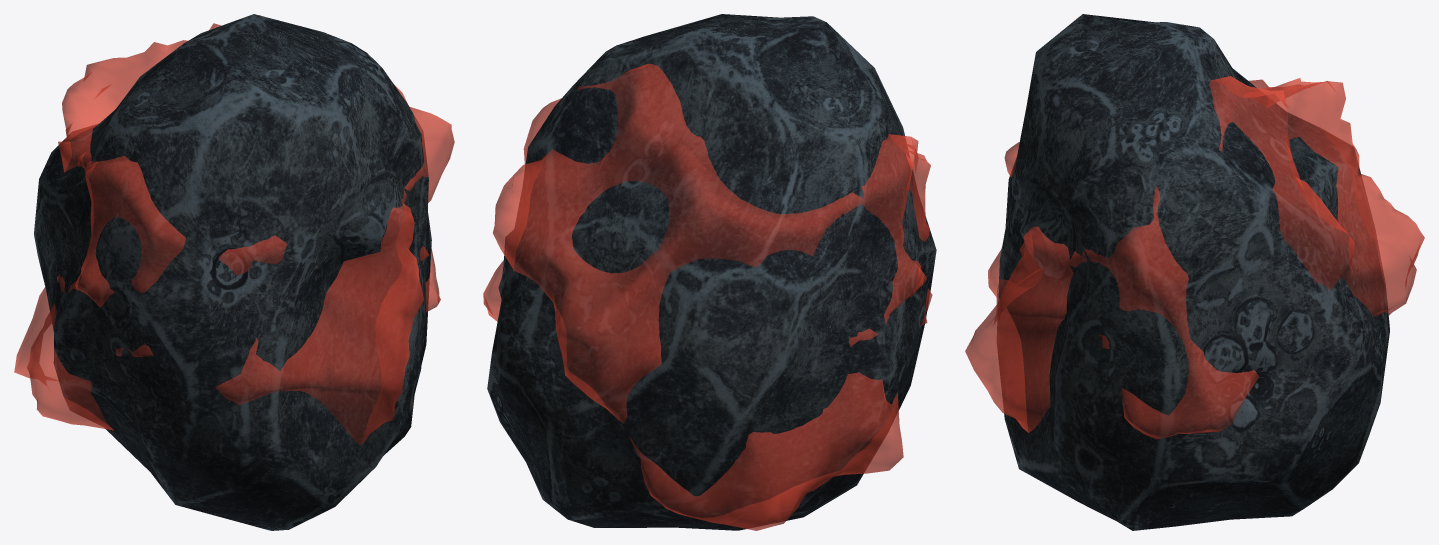
Rendered from rockRed.gltf.
The picture shows the model from 3 angles, left to right: view 1: azimuth 30°, elevation 25°; view 2: azimuth 150°, elevation 25°; view 3: azimuth 270°, elevation 25°; orthographic projection. The views are drawn at different scales.
Parts seen in each view (by area): view 1: RockLP, Icosphere; view 2: RockLP, Icosphere; view 3: RockLP, Icosphere.
Part boxes in pixels (x1,y1,x2,y2): RockLP: [34, 14, 431, 530]; Icosphere: [14, 15, 454, 444]; RockLP: [487, 14, 936, 530]; Icosphere: [483, 63, 932, 530]; RockLP: [997, 14, 1389, 530]; Icosphere: [965, 76, 1424, 439].
Size of the model in its own units: 2.69 by 3.05 by 2.68.
Materials: 2 (1 with a texture image).
